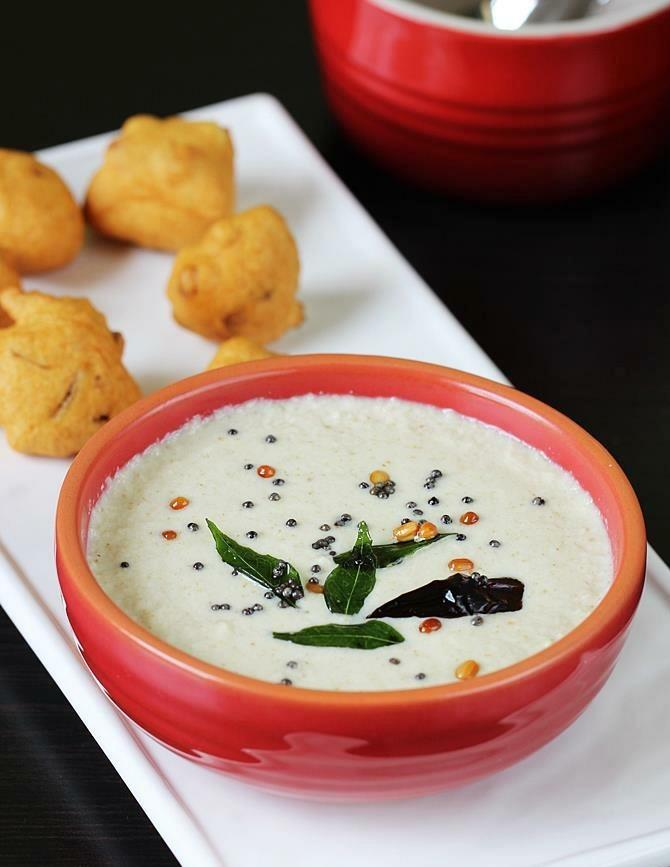CoconutChutney: (91, 397, 612, 692)
